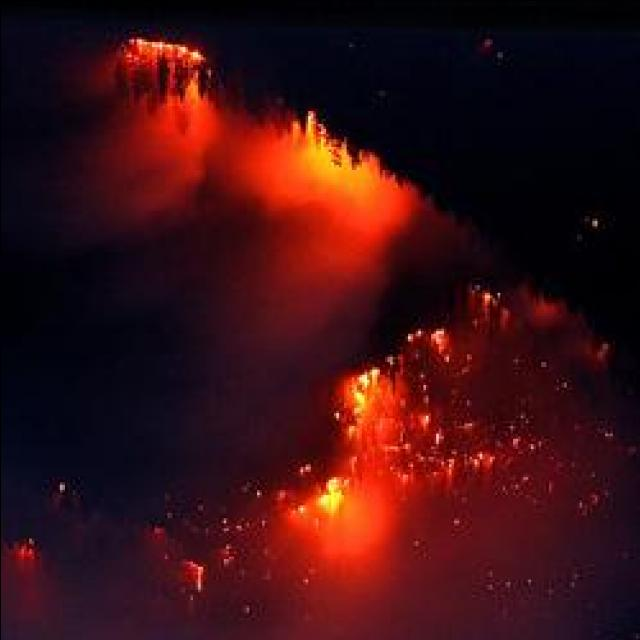fire: (344, 376, 392, 503), (340, 366, 382, 418), (308, 474, 350, 514), (130, 36, 188, 58)
smoke: (259, 154, 415, 340), (235, 243, 386, 365), (314, 524, 406, 636), (100, 138, 198, 232), (218, 148, 284, 206)
